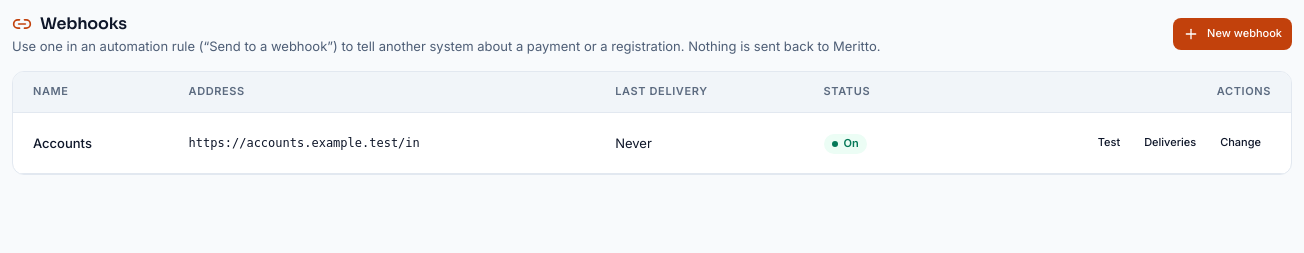
WebhooksTab › reports what the receiver said to a test
The image size is (1304, 253).
Click the button with aria-label "Send a test to Accounts": click(1109, 143) [1088,127,1130,159]
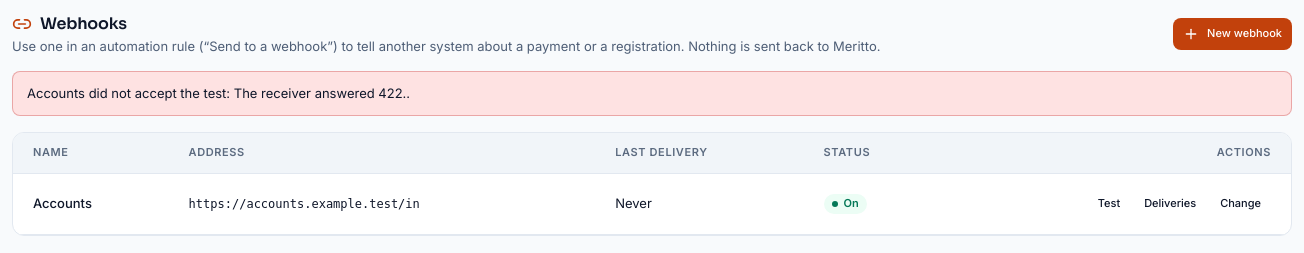
Check: the text "Accounts did not accept the test: The receiver answered 422.." is shown, box [12,71,1292,116]
